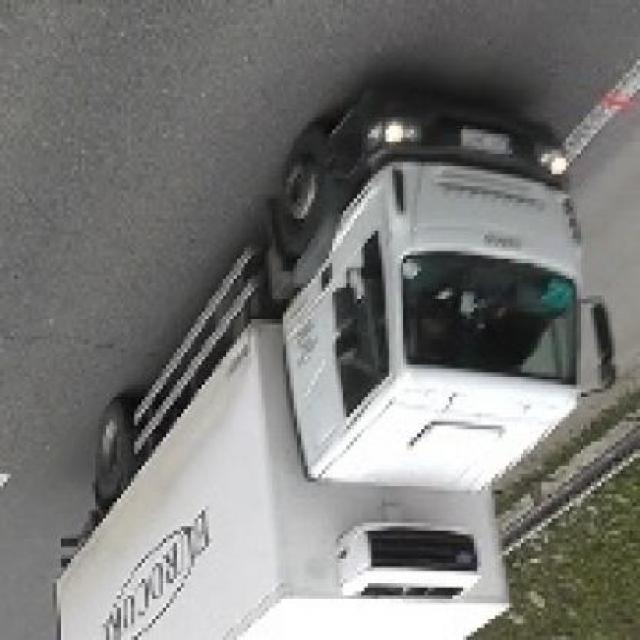truck: (50, 83, 614, 640)
